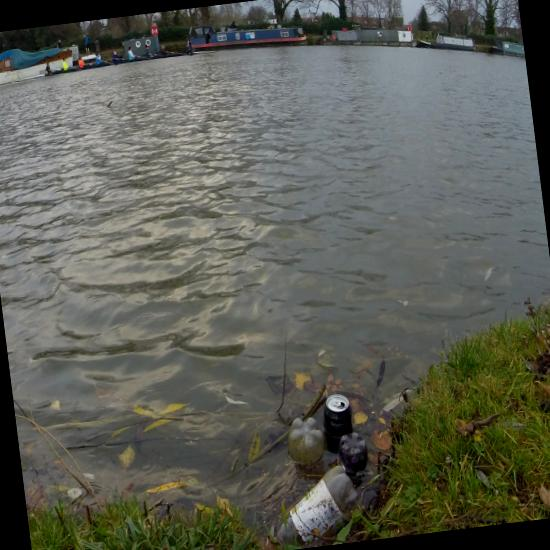Clear plastic bottle: (275, 465, 362, 547), (288, 417, 324, 464), (338, 432, 368, 474)
Drink can: (323, 394, 353, 437)
Pop tab: (331, 398, 341, 406)
